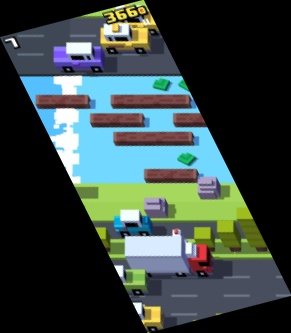car: (89, 264, 147, 296), (53, 42, 106, 76), (112, 4, 166, 36), (99, 24, 150, 57), (112, 301, 164, 333), (112, 209, 147, 237)
duck: (171, 228, 187, 247)
lilypad: (175, 152, 196, 165), (153, 78, 170, 92), (178, 78, 192, 92)
log: (114, 132, 194, 146), (111, 95, 191, 108), (144, 168, 198, 184), (36, 95, 92, 110), (89, 113, 145, 128), (173, 113, 214, 126)
rock: (142, 195, 166, 218), (197, 177, 221, 199)
tree: (236, 207, 268, 252), (217, 220, 243, 253), (194, 227, 214, 254), (94, 227, 109, 254)
truck: (124, 236, 213, 278)
water: (17, 75, 238, 184)
